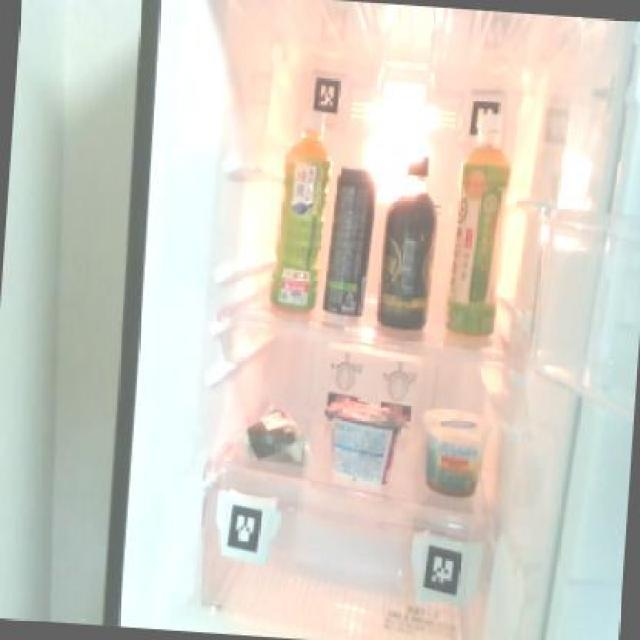coffee: (374, 140, 444, 332)
energy_drink: (323, 159, 379, 316)
pudding: (416, 404, 490, 501)
rice_ball: (238, 402, 310, 467)
tea_a: (267, 108, 335, 312)
tea_i: (442, 137, 516, 346)
yogurt: (320, 398, 406, 496)
